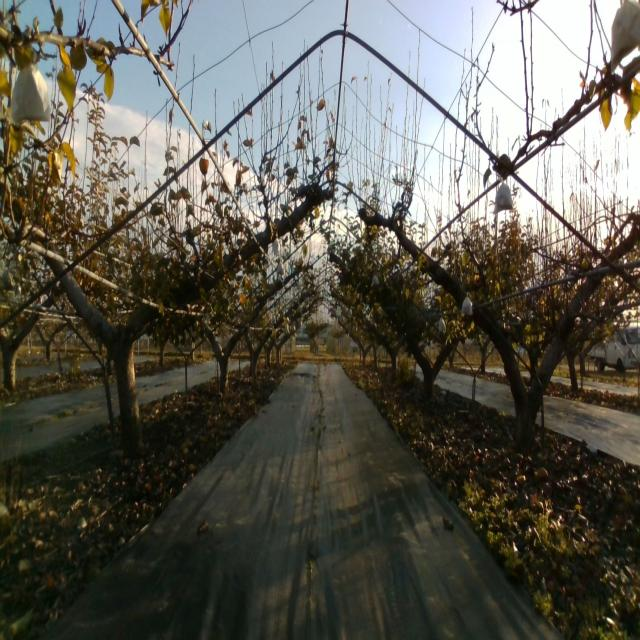pearbags: (7, 60, 51, 123), (609, 0, 640, 70), (493, 176, 512, 211), (461, 293, 473, 316)
